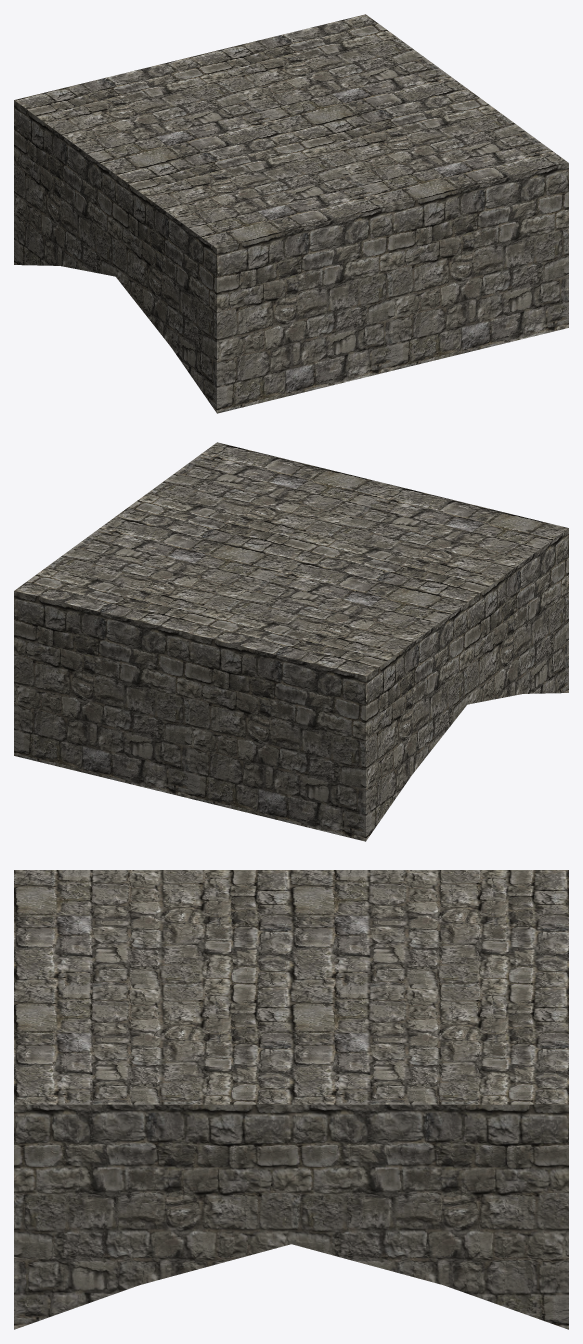
The model's file is StoneBridge_DoubleBracingCenter.dae.
3 renders of one model, top to bottom at view 1: azimuth 30°, elevation 25°; view 2: azimuth 150°, elevation 25°; view 3: azimuth 270°, elevation 25°, orthographic. The views are drawn at different scales.
Visible parts, largest first — view 1: DoubleBracingCenter; view 2: DoubleBracingCenter; view 3: DoubleBracingCenter.
Boxes of the visible parts, left/top/right/bottom form: DoubleBracingCenter: left=14, top=14, right=568, bottom=413; DoubleBracingCenter: left=14, top=442, right=568, bottom=841; DoubleBracingCenter: left=14, top=870, right=568, bottom=1329.
Size of the model in its own units: 4 by 1.79 by 4.
Materials: 2 (2 with a texture image).
